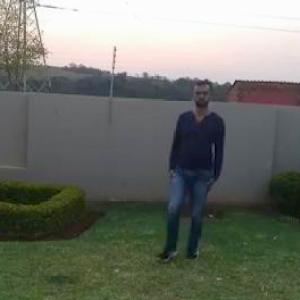follow: (165, 78, 225, 264)
